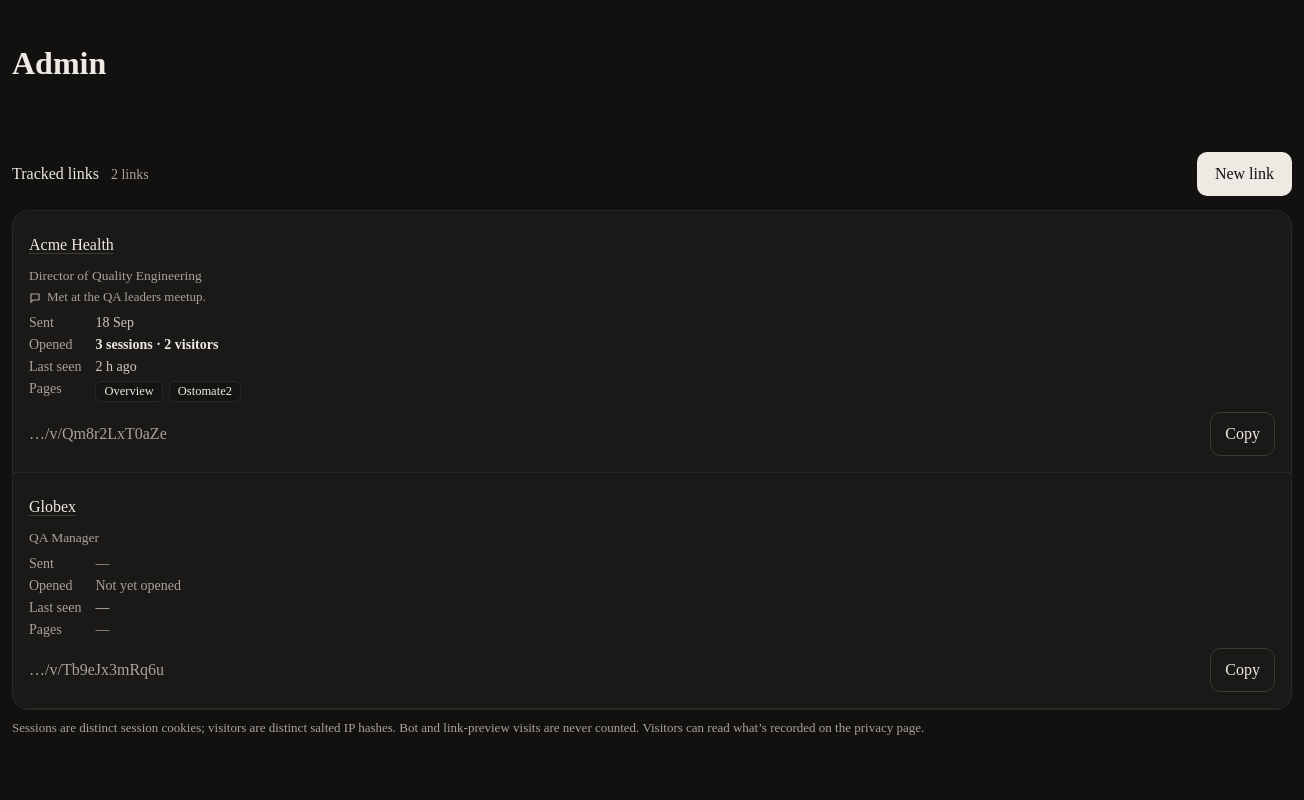
it: AdminLinks table › copies the full address, and reads Copied
Click the button with aria-label "Copy link for Acme Health": click(1243, 434) x1=1210 y1=412 x2=1275 y2=456
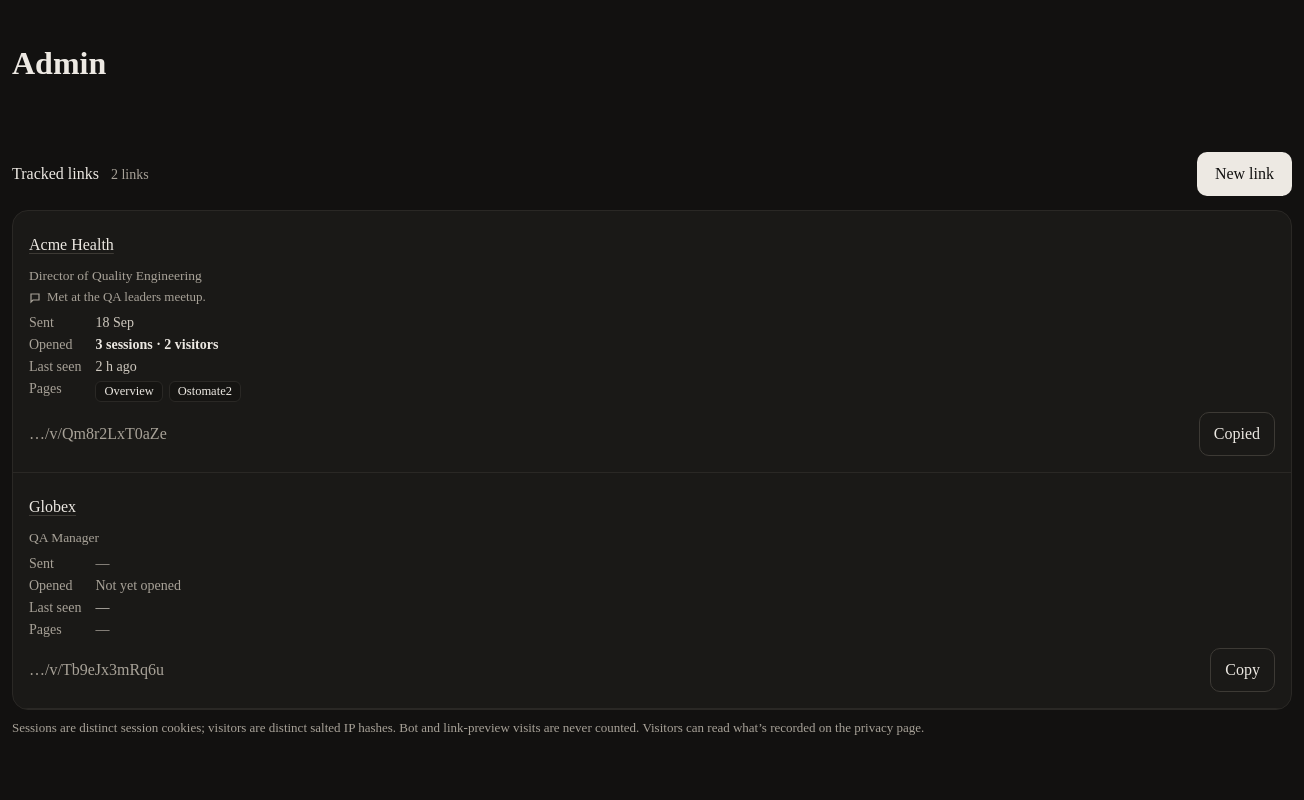
Result: the button with aria-label "Copy link for Acme Health" reads "Copied" at x1=1199 y1=412 x2=1275 y2=456
